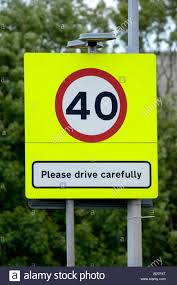Speed_limit_40km: (55, 68, 128, 144)
